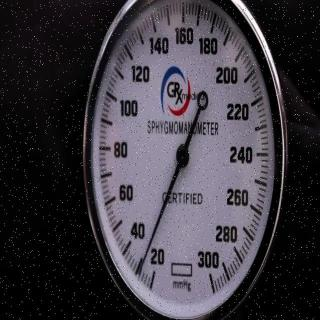gauge: (82, 0, 288, 320), (137, 262, 169, 298), (205, 271, 226, 302), (173, 144, 193, 169), (131, 262, 145, 278)
